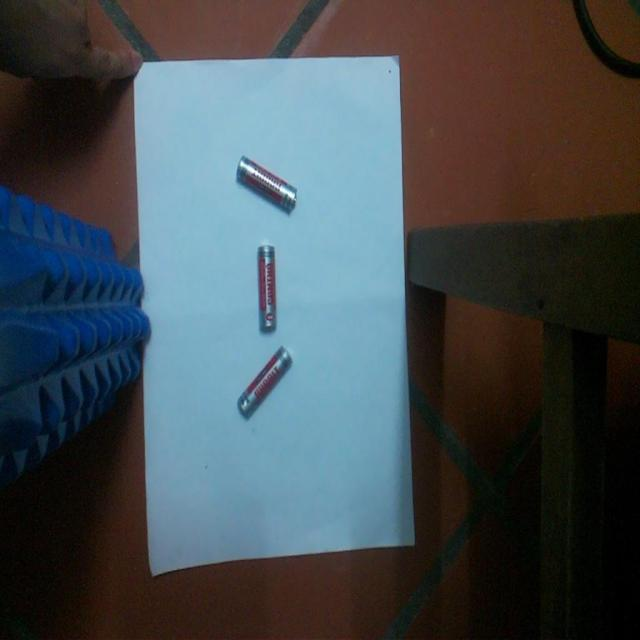AA: (238, 346, 292, 421), (236, 155, 298, 215), (257, 246, 277, 335)
